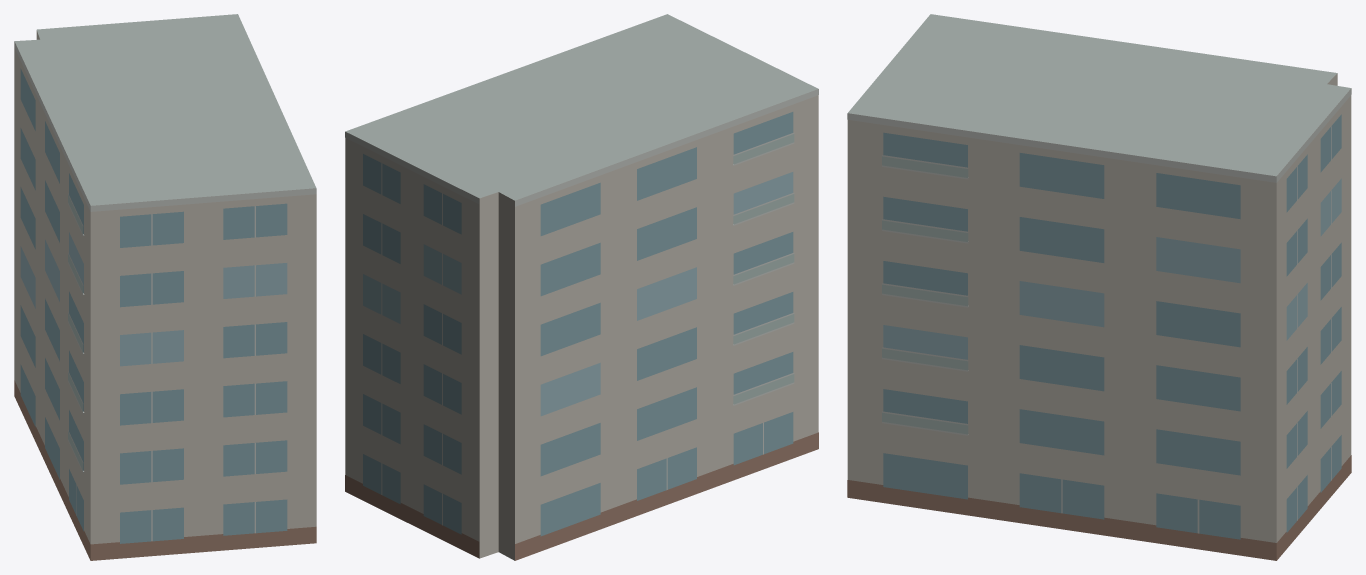
The model's file is survey-upis-32849545.glb.
3 views of the same model, side by side, from view 1: azimuth 30°, elevation 25°; view 2: azimuth 150°, elevation 25°; view 3: azimuth 270°, elevation 25° (orthographic). The views are drawn at different scales.
Visible parts, largest first — view 1: survey-upis-32849545.tmp; view 2: survey-upis-32849545.tmp; view 3: survey-upis-32849545.tmp.
Part boxes in pixels (left/top/right/bottom): survey-upis-32849545.tmp: left=14, top=14, right=316, bottom=560; survey-upis-32849545.tmp: left=345, top=14, right=818, bottom=560; survey-upis-32849545.tmp: left=847, top=14, right=1351, bottom=560.
Bounding box in the file's own units: 12.91 × 14.25 × 16.93.
